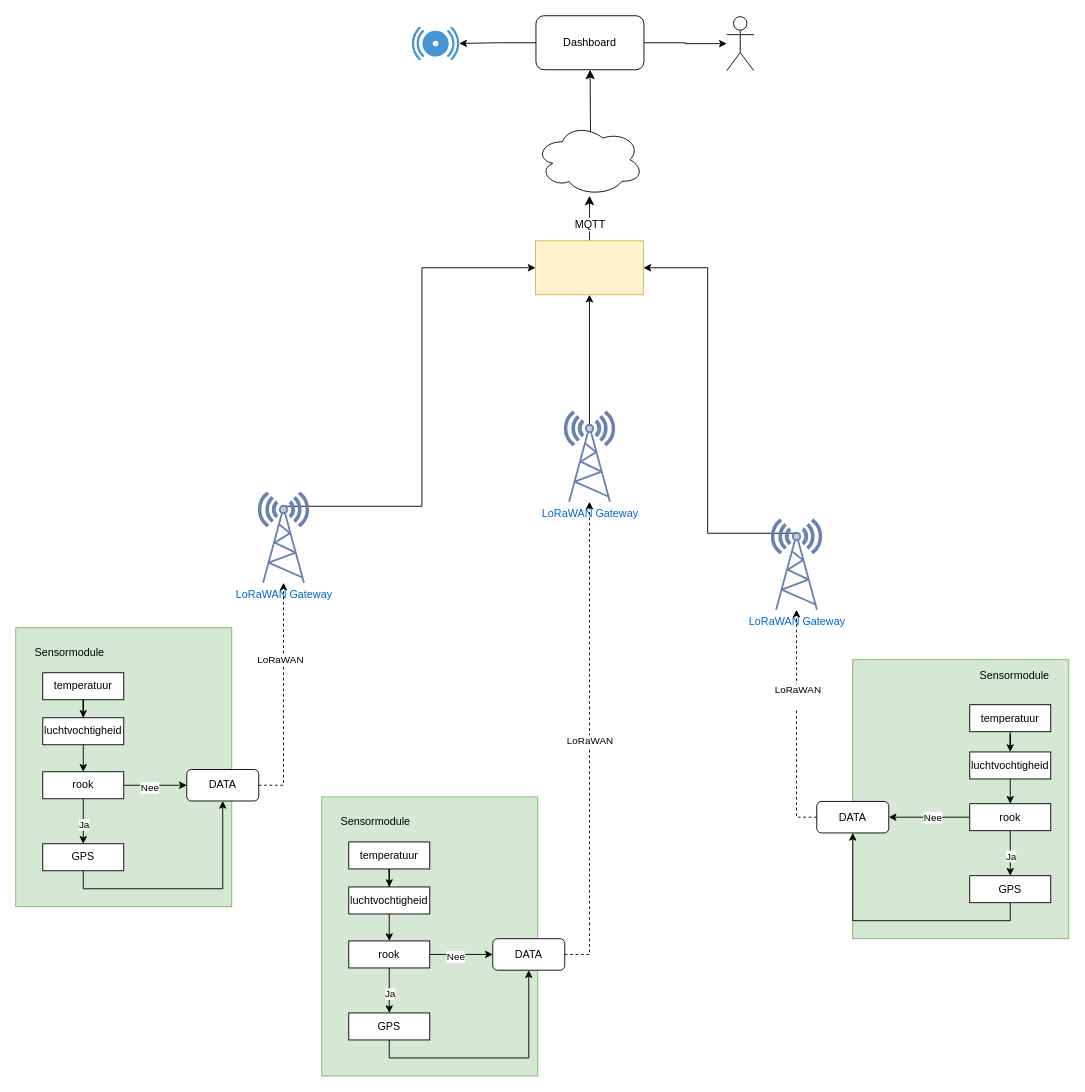
This 1085x1092 diagram has some shape labels left out. Each missing label, with the centre of its shape:
"ALARM" belongs at [435,43].
"Gebruiker" belongs at [740,43].
"LoRaWAN Netwerkserver" belongs at [589,267].
"Node-red" belongs at [589,159].
